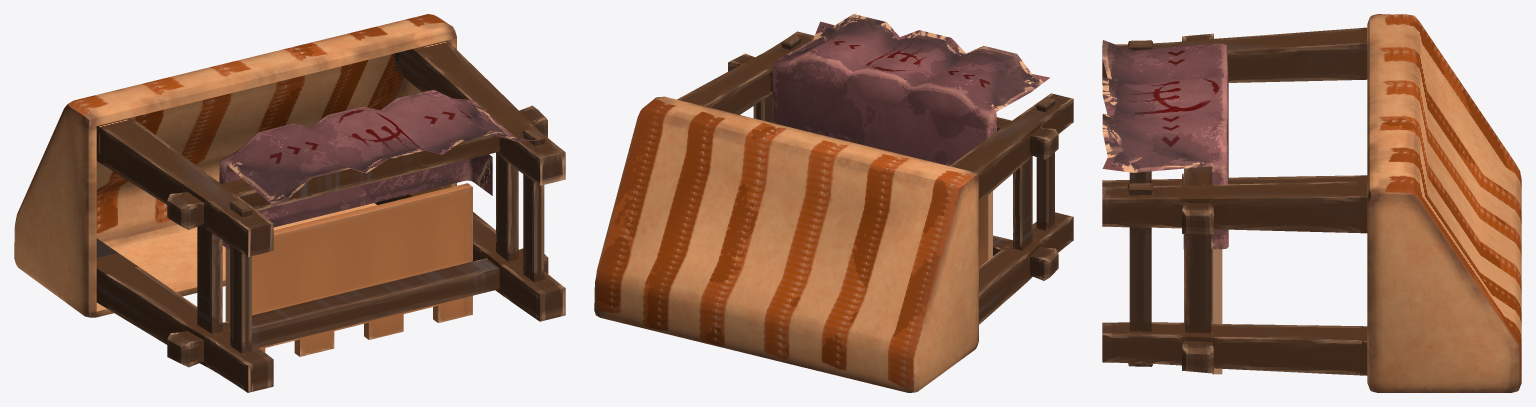
File: Stall.fbx
3 renders of one model, left to right at view 1: azimuth 30°, elevation 25°; view 2: azimuth 150°, elevation 25°; view 3: azimuth 270°, elevation 25°, orthographic. The views are drawn at different scales.
Visible parts, largest first — view 1: Stall_001; view 2: Stall_001; view 3: Stall_001.
Part boxes in pixels (x1,y1,x2,y2): Stall_001: (14,14,565,392); Stall_001: (594,14,1073,392); Stall_001: (1102,14,1521,392).
Size of the model in its own units: 84695 by 49818 by 82661.
Materials: 1 (1 with a texture image).
